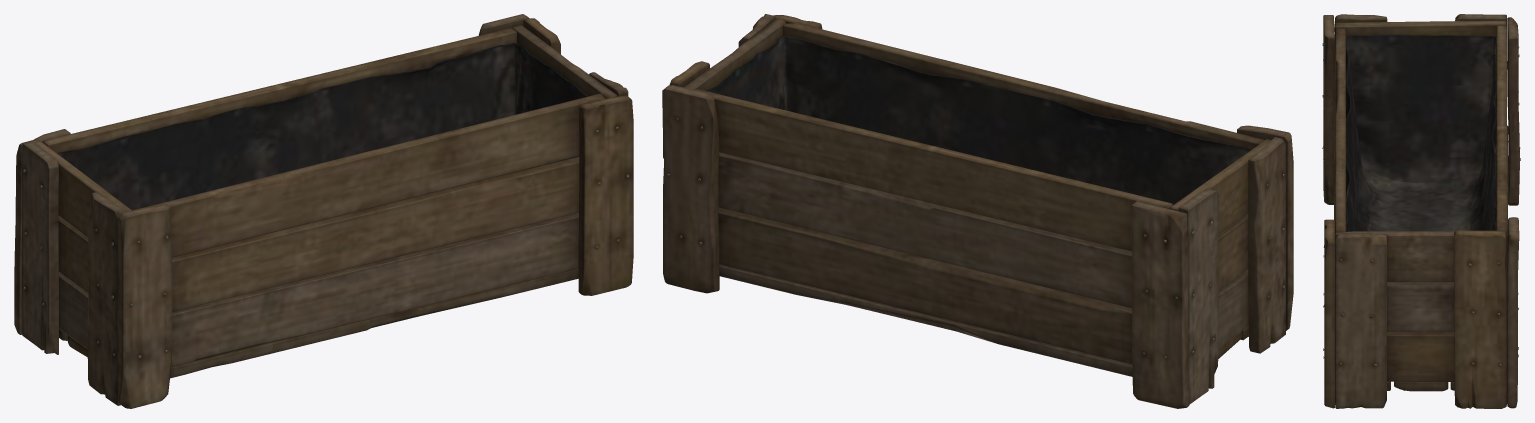
The model's file is planter_box_02.glb.
The picture shows the model from 3 angles, left to right: view 1: azimuth 30°, elevation 25°; view 2: azimuth 150°, elevation 25°; view 3: azimuth 270°, elevation 25°; orthographic projection. The views are drawn at different scales.
Parts seen in each view (by area): view 1: planter_box_02; view 2: planter_box_02; view 3: planter_box_02.
Part boxes in pixels (x1=…): planter_box_02: x1=14, y1=14, x2=633, y2=408; planter_box_02: x1=662, y1=14, x2=1293, y2=408; planter_box_02: x1=1322, y1=14, x2=1520, y2=408.
Bounding box in the file's own units: 1.25 × 0.4534 × 0.4672.
1 material, 1 textured.
